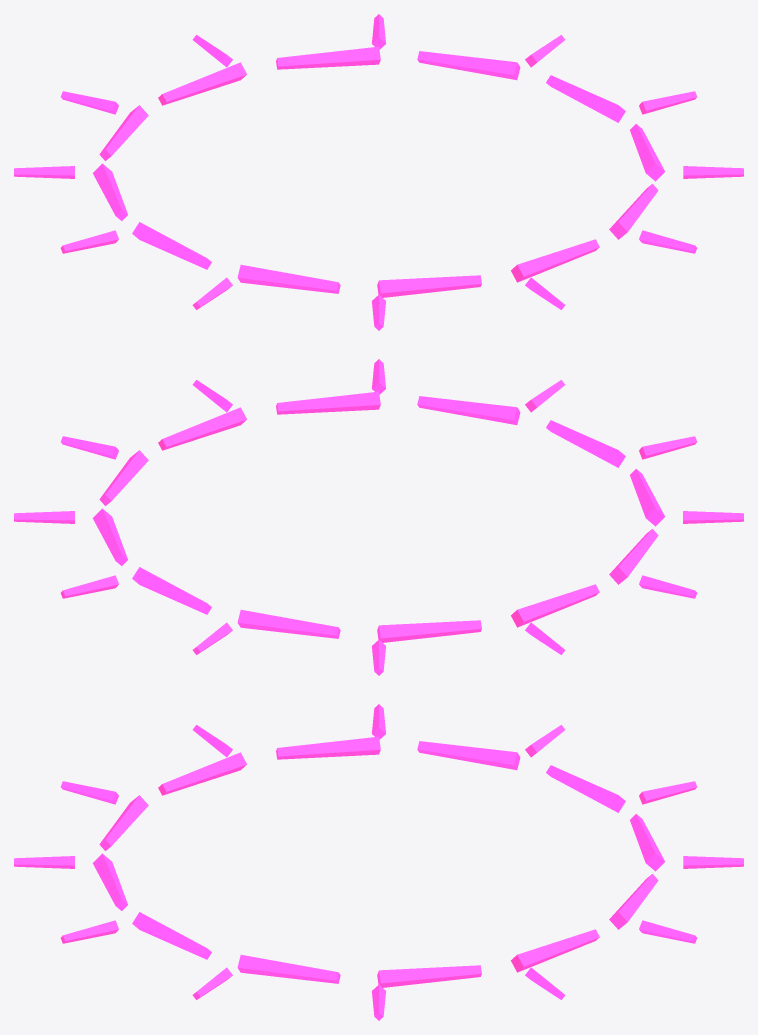
File: blood_ring.glb
3 renders of one model, top to bottom at view 1: azimuth 30°, elevation 25°; view 2: azimuth 150°, elevation 25°; view 3: azimuth 270°, elevation 25°, orthographic.
Visible parts, largest first — view 1: blood_ring; view 2: blood_ring; view 3: blood_ring.
Boxes of the visible parts, bbox=[...] form: blood_ring: bbox=[14, 14, 743, 330]; blood_ring: bbox=[14, 359, 743, 675]; blood_ring: bbox=[14, 704, 743, 1020].
Size of the model in its own units: 1.32 by 0.036 by 1.32.
